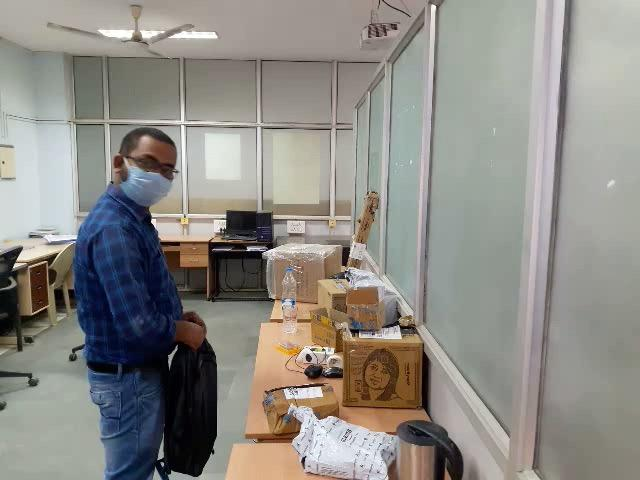shoplifting: (44, 291, 236, 469)
